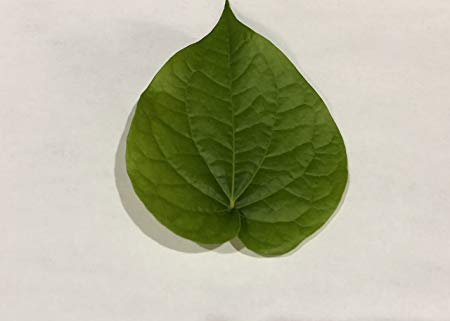healthy: (123, 7, 360, 276)
